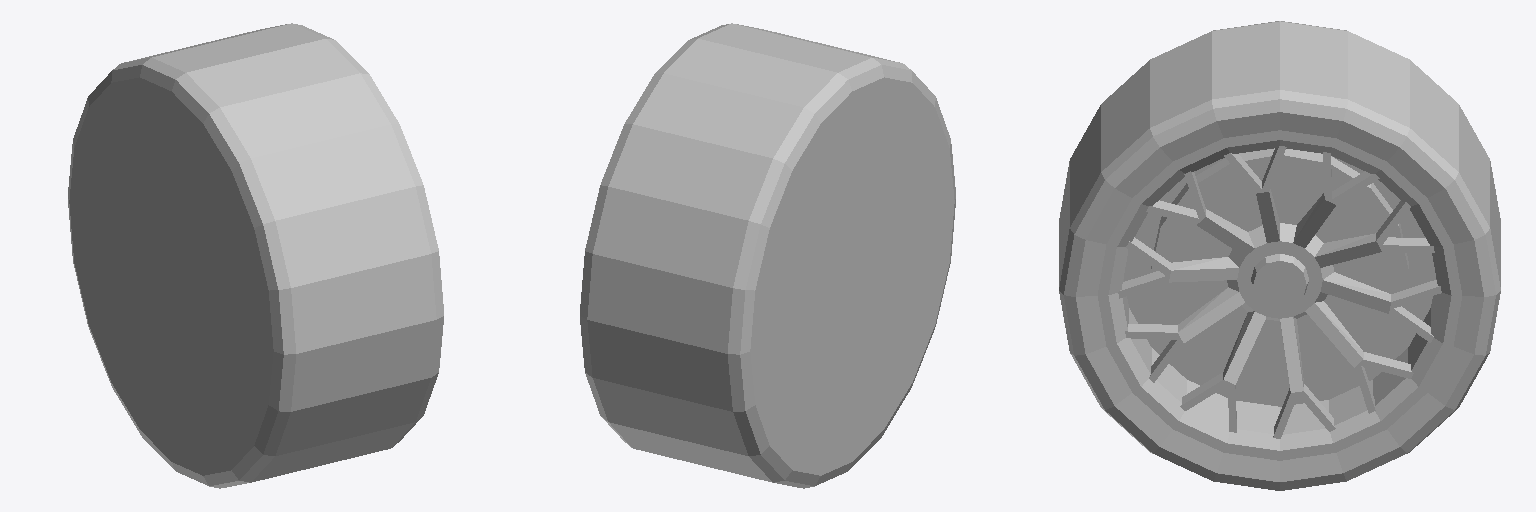
Rendered from Tire1.obj.
3 renders of one model, left to right at view 1: azimuth 30°, elevation 25°; view 2: azimuth 150°, elevation 25°; view 3: azimuth 270°, elevation 25°, orthographic.
Visible parts, largest first — view 1: Wheel_FL Lamborginhi_Aventador; view 2: Wheel_FL Lamborginhi_Aventador; view 3: Wheel_FL Lamborginhi_Aventador.
Part boxes in pixels (x1,y1,x2,y2): Wheel_FL Lamborginhi_Aventador: (68,23,443,488); Wheel_FL Lamborginhi_Aventador: (580,23,955,488); Wheel_FL Lamborginhi_Aventador: (1059,21,1500,490).
Bounding box in the file's own units: 30.5 × 69.12 × 69.12.